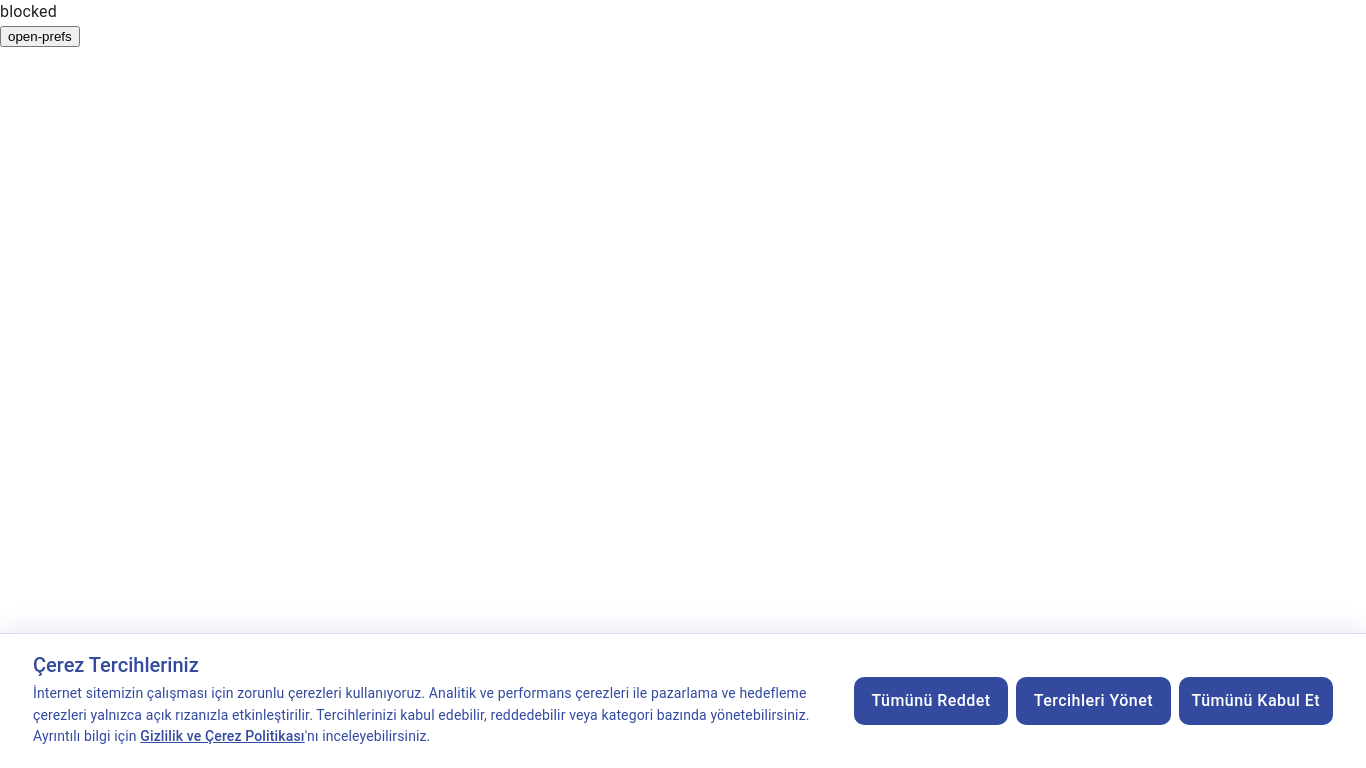
Test case: CookieConsentProvider — Tercih Merkezi › opens with all optional off; saving functional persists it + writes NEXT_LOCALE, with the update toast
Click the button "Tercihleri Yönet".
click(1093, 701)  # box [1016,677,1171,725]
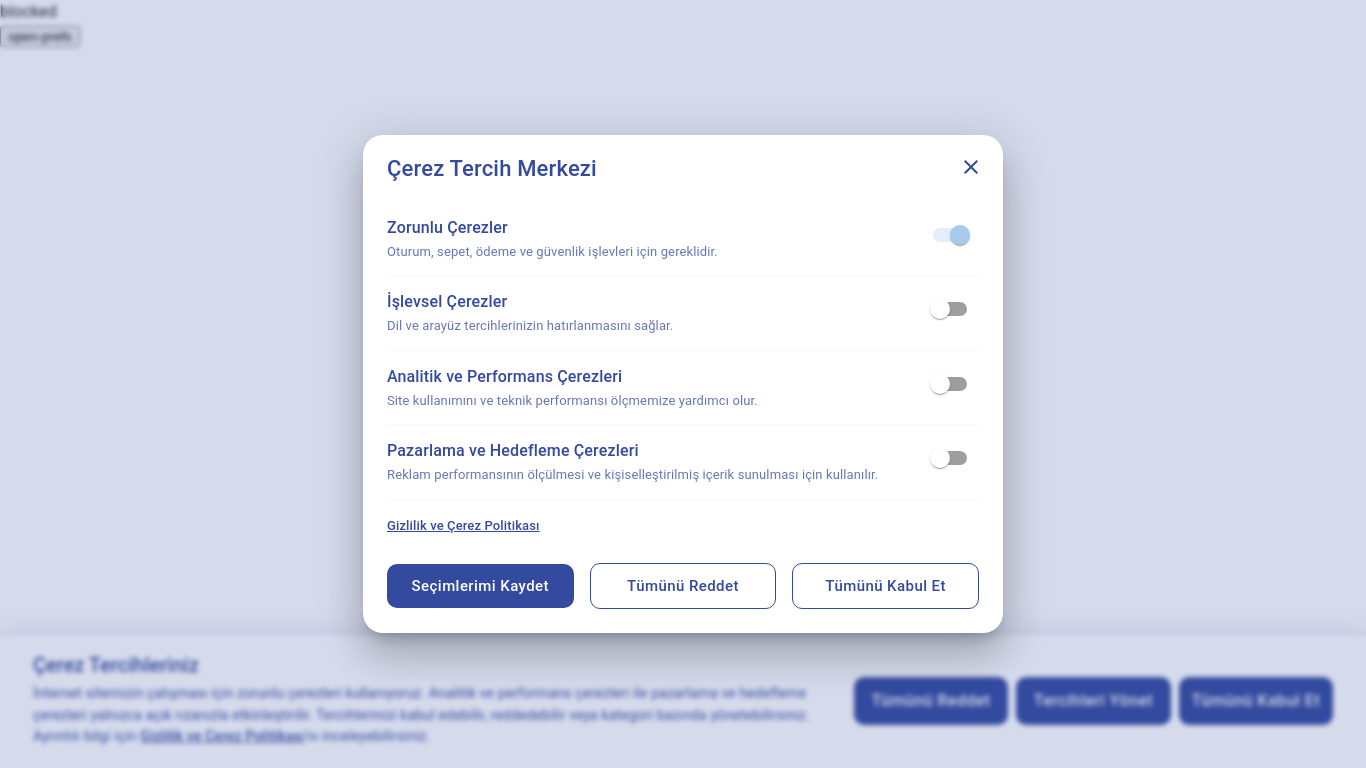
Check: the checkbox named "İşlevsel Çerezler" is not checked
Click the checkbox named "İşlevsel Çerezler".
click(940, 309)  # box [930,299,950,319]
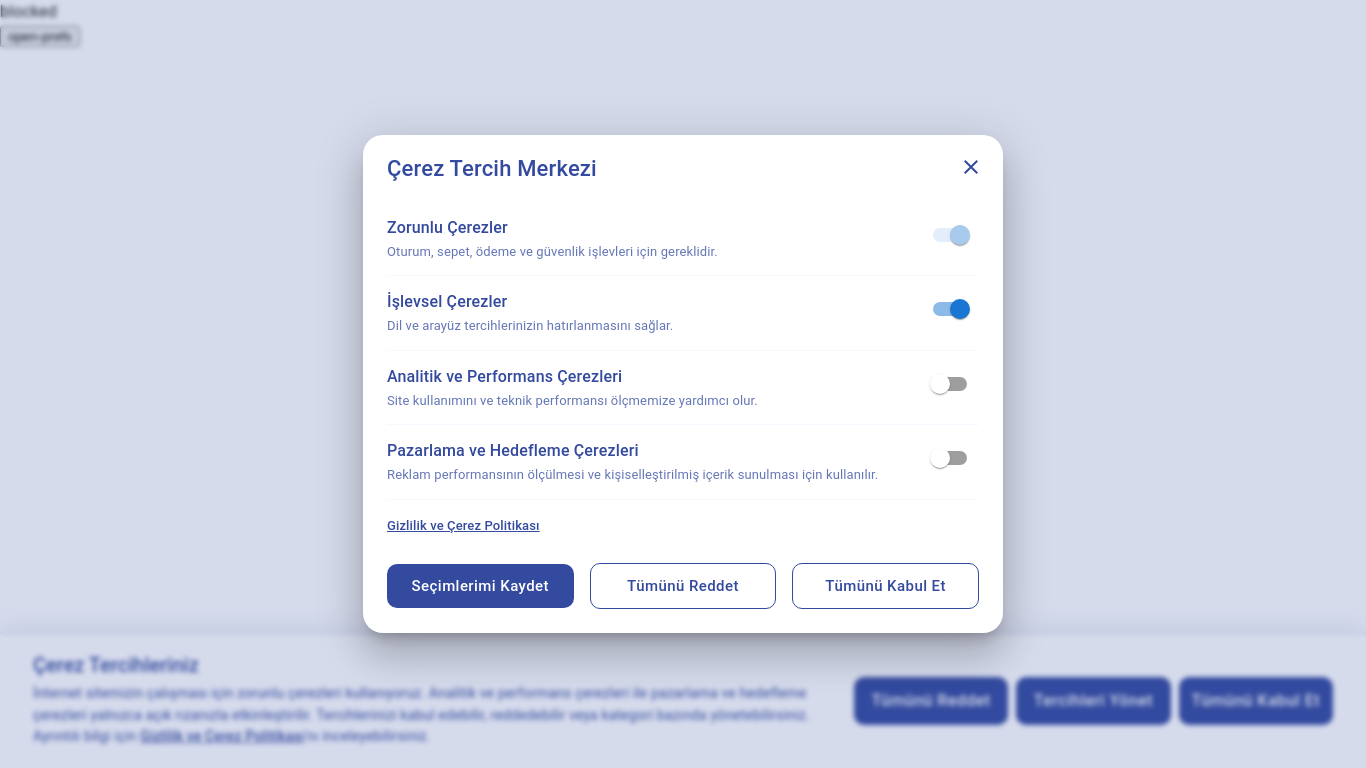
Click the button "Seçimlerimi Kaydet".
click(480, 586)  # box [387,564,574,608]
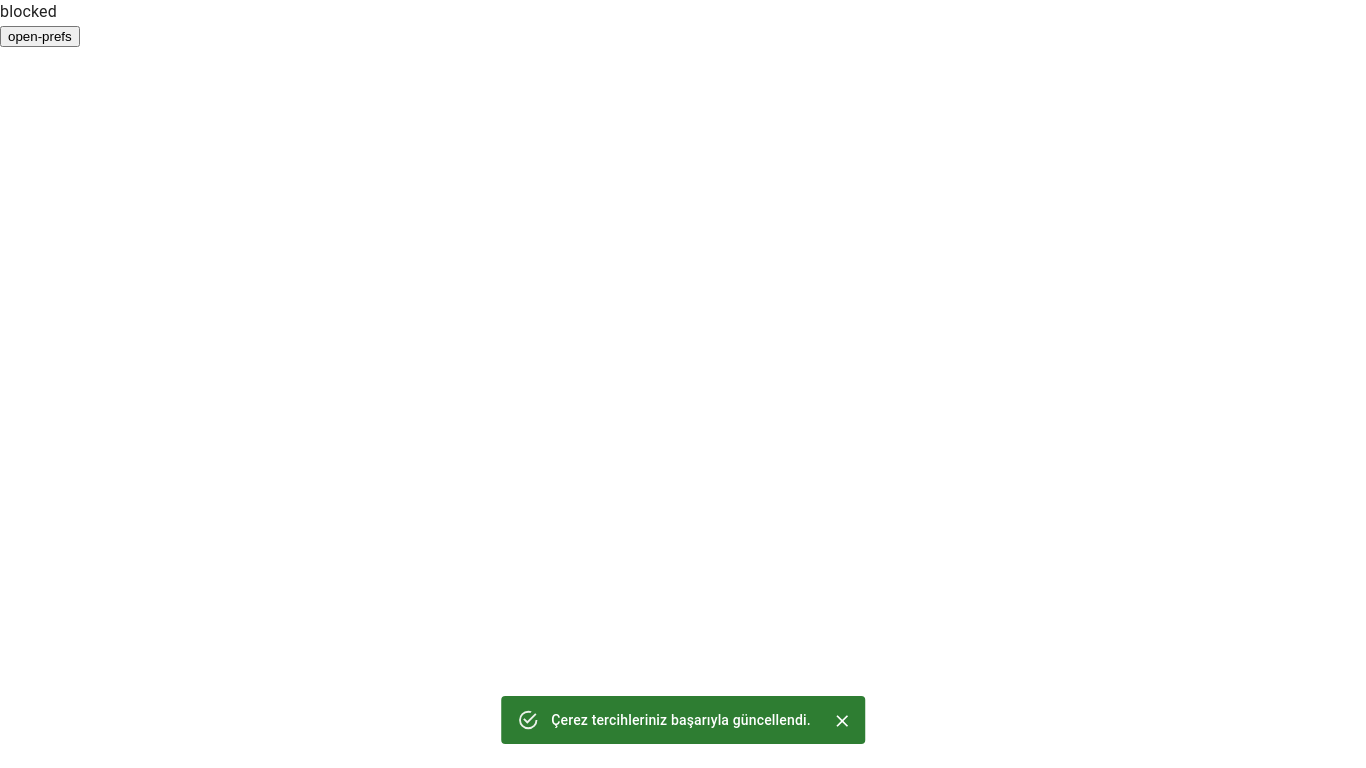
Check: the text "Çerez tercihleriniz başarıyla güncellendi." is shown, box [551,712,811,728]
